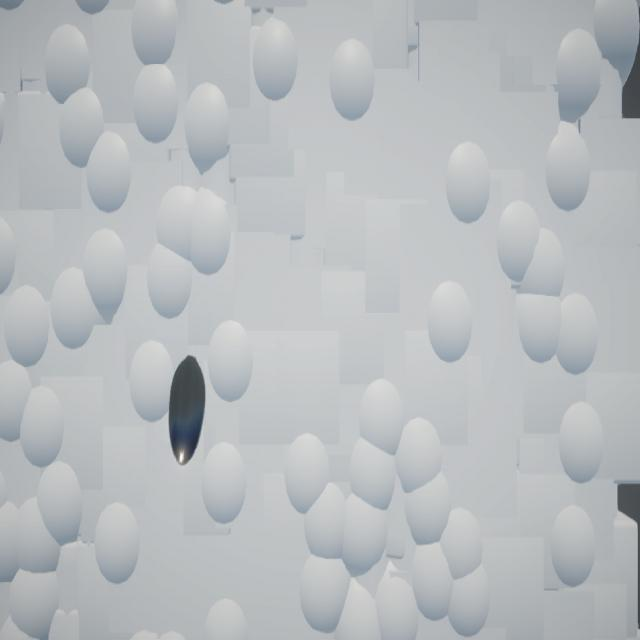top_spoon: (170, 356, 207, 467)
